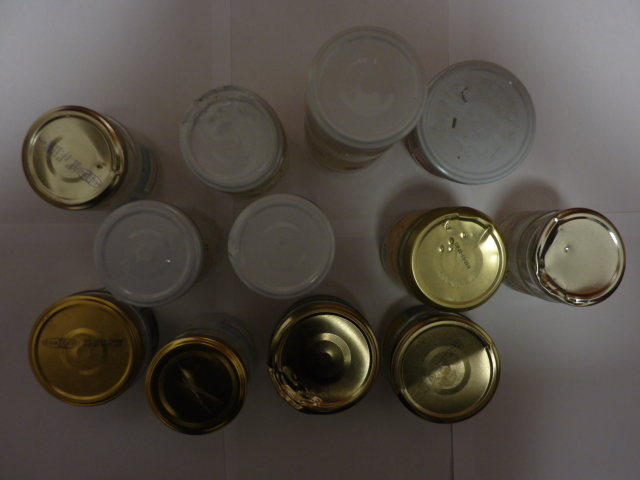damaged: (418, 60, 536, 181), (266, 301, 378, 415), (392, 316, 502, 425), (228, 194, 335, 298), (180, 85, 283, 193), (20, 108, 126, 210), (405, 210, 507, 310), (146, 337, 247, 436), (536, 209, 626, 306)
intact: (309, 23, 428, 149)
